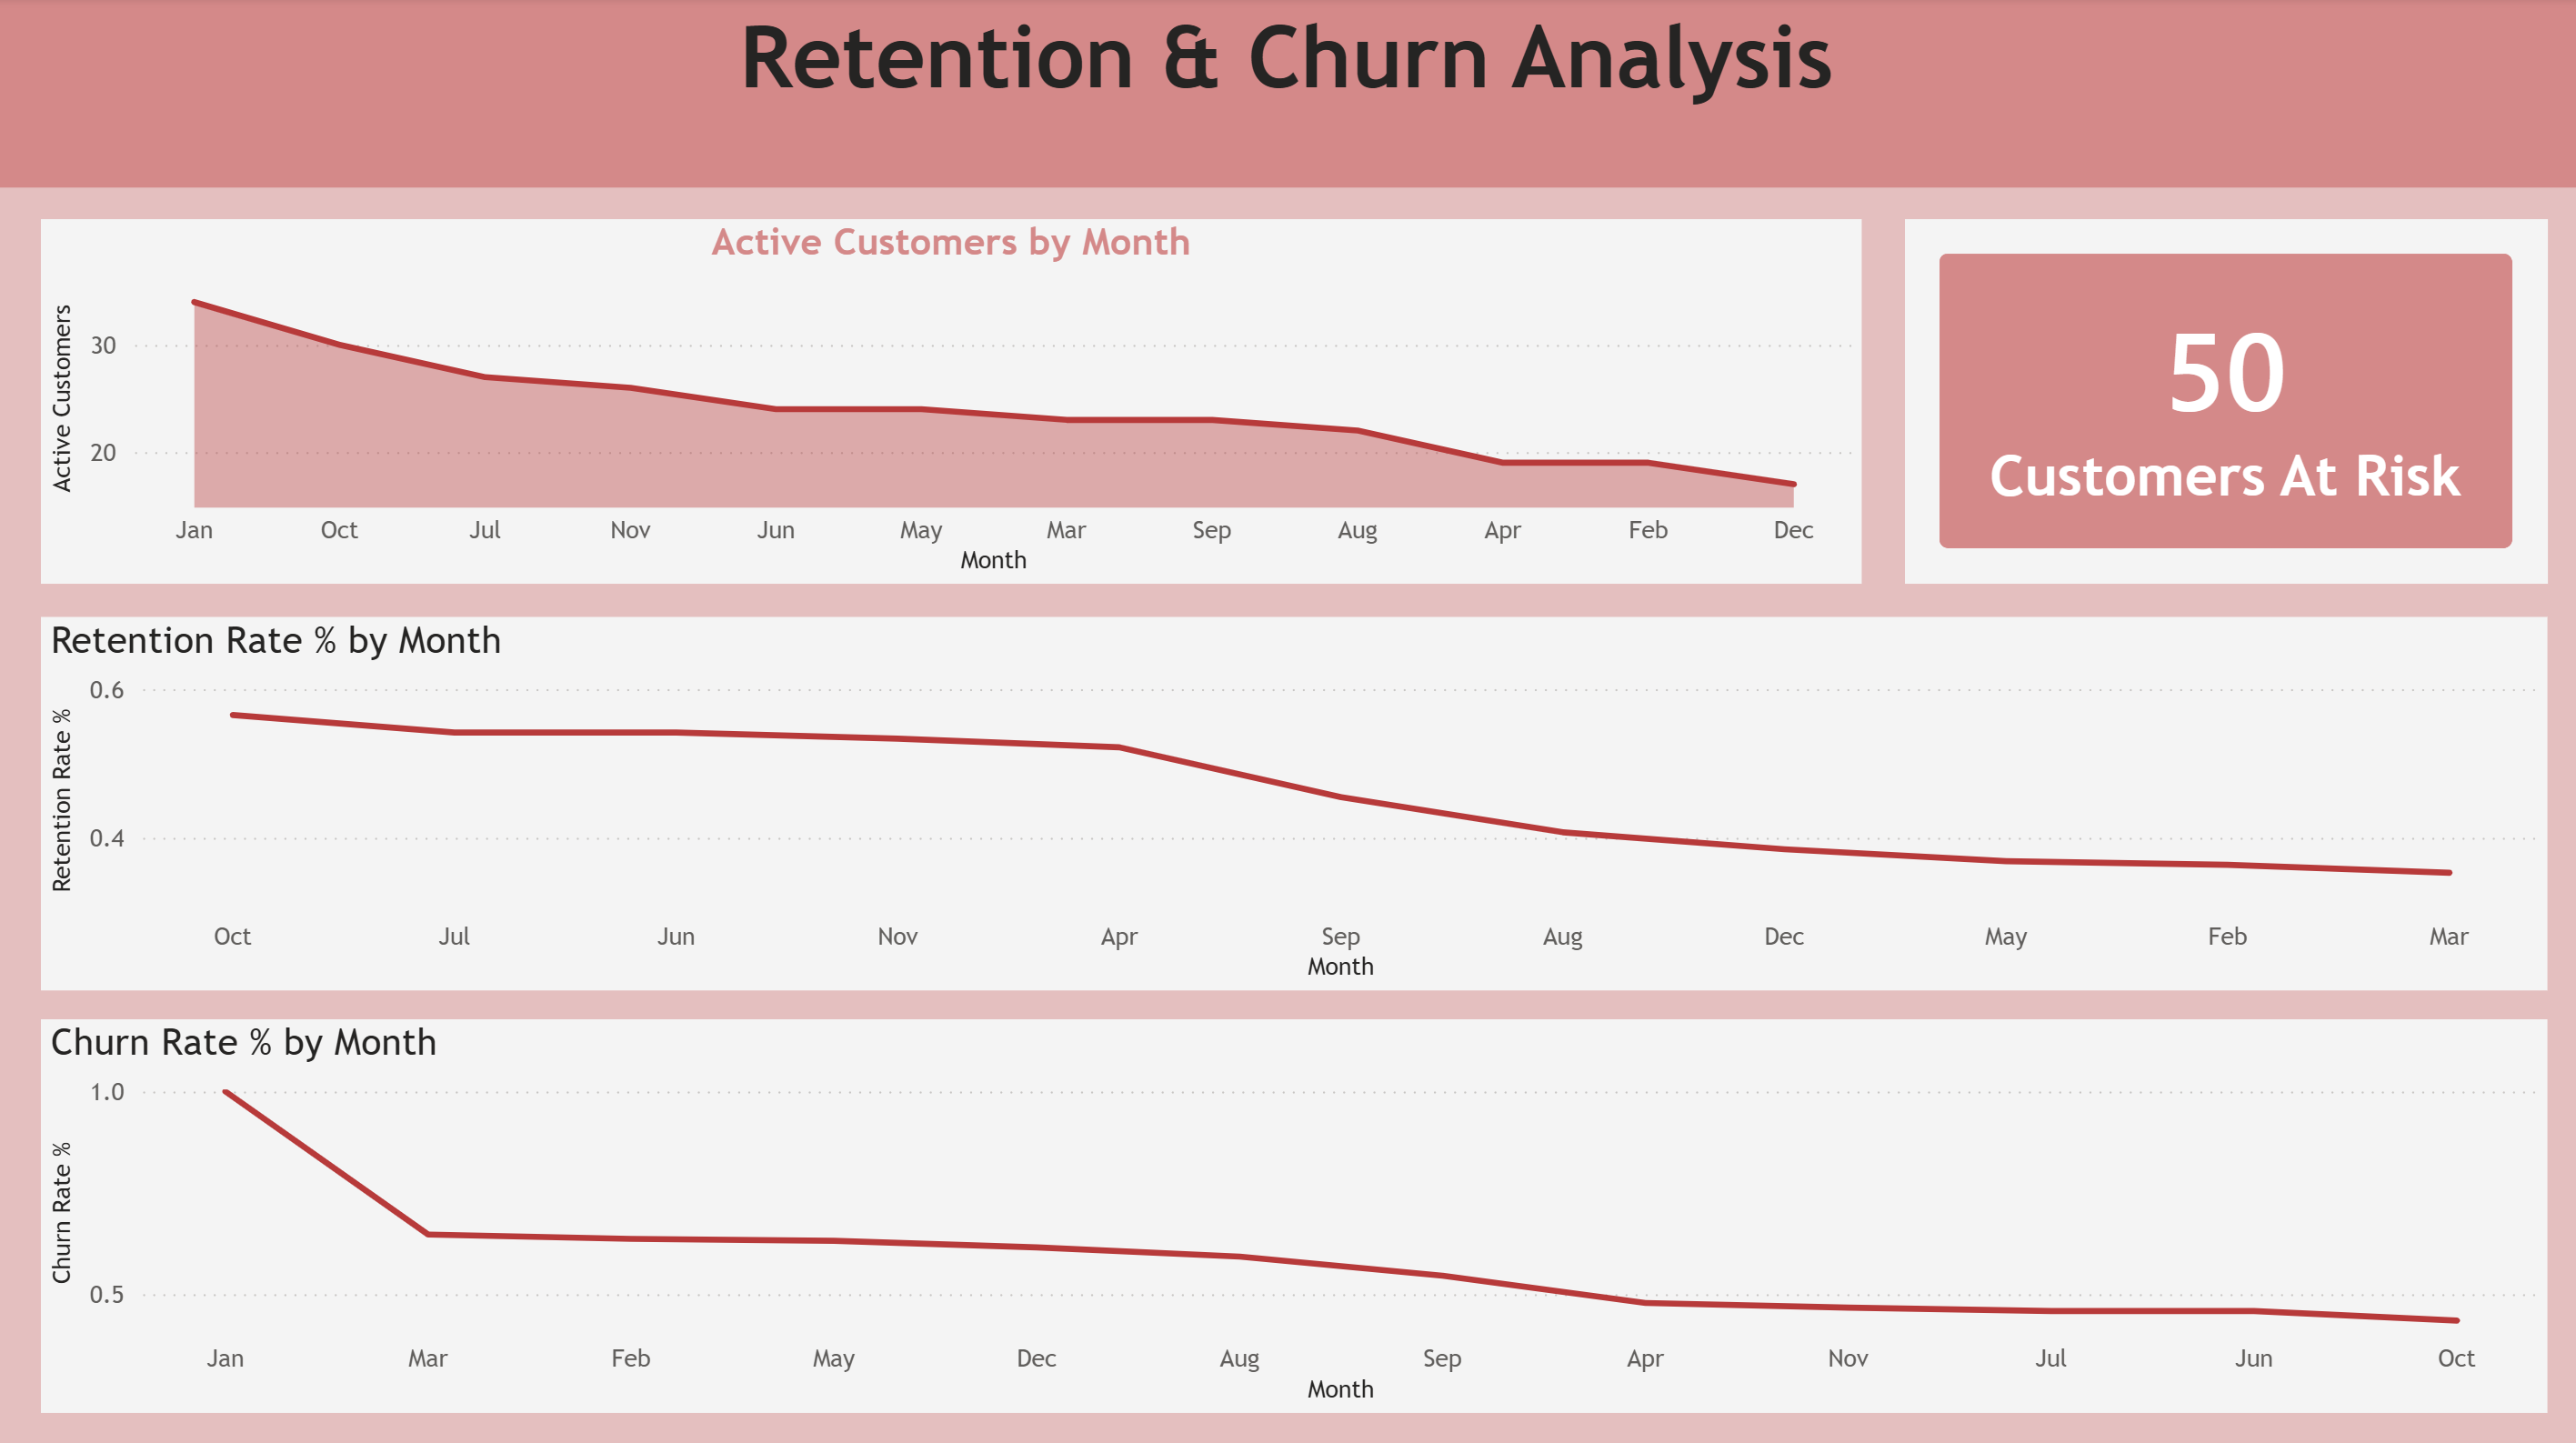

This screenshot's page, from the dashboard's own definition file:
{"tool":"powerbi","page":{"name":"Retention & Churn Analytics","canvas":[1280,720],"ordinal":2},"visuals":[{"type":"lineChart","fields":{"Category":["Calendar.Month"],"Y":["public orders.Retention Rate %"]},"box":[23,307.2,1243,185.2],"z":0},{"type":"lineChart","fields":{"Category":["Calendar.Month"],"Y":["public orders.Churn Rate %"]},"box":[23,506.7,1243,195.2],"z":1000},{"type":"areaChart","fields":{"Category":["Calendar.Month"],"Y":["public orders.Active Customers"]},"box":[23,110.5,902.8,180.8],"z":2000},{"type":"textbox","box":[0,0,1280.3,94.7],"z":3000},{"type":"cardVisual","fields":{"Data":["public orders.Customers At Risk"]},"box":[947.3,110.5,318.6,180.8],"z":4000}]}

Visuals, with their boxes in screenshot pixels (x1, y1, x2, y2), scaled from the page's 1280x720 canvas onto the 2576x1443 screenshot:
lineChart - Calendar.Month x public orders.Retention Rate %: <bbox>46, 616, 2548, 987</bbox>
lineChart - Calendar.Month x public orders.Churn Rate %: <bbox>46, 1016, 2548, 1407</bbox>
areaChart - Calendar.Month x public orders.Active Customers: <bbox>46, 222, 1863, 584</bbox>
textbox: <bbox>0, 0, 2575, 190</bbox>
cardVisual - public orders.Customers At Risk: <bbox>1907, 222, 2548, 584</bbox>
